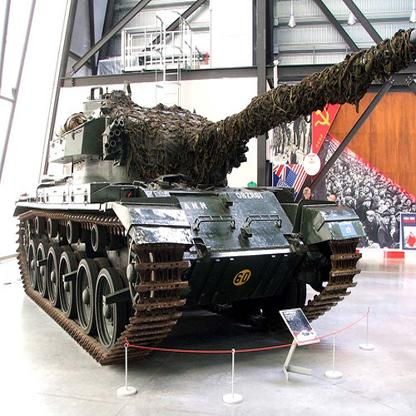Tank: (17, 49, 416, 362)
